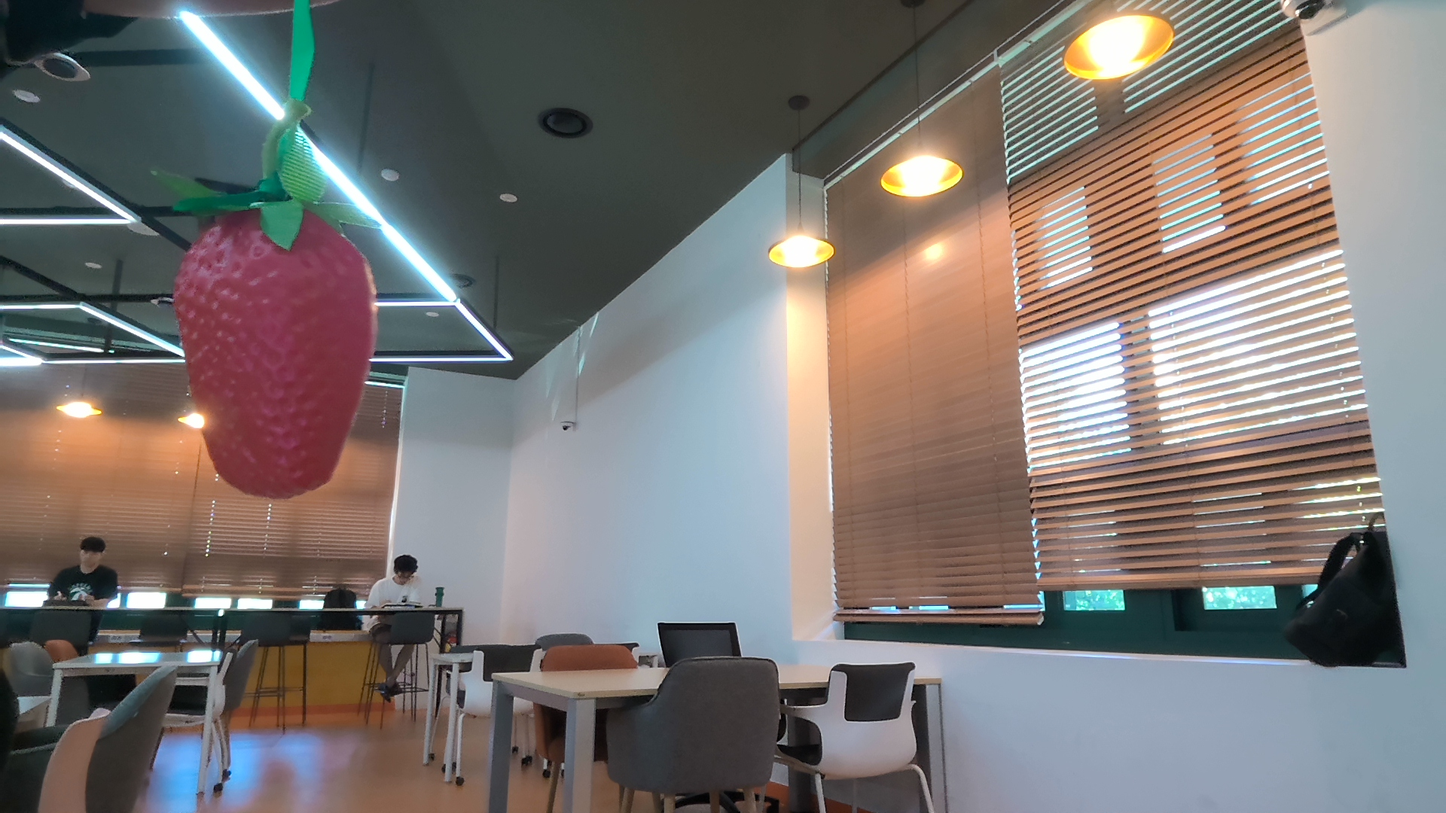strawberry: (147, 200, 405, 500)
